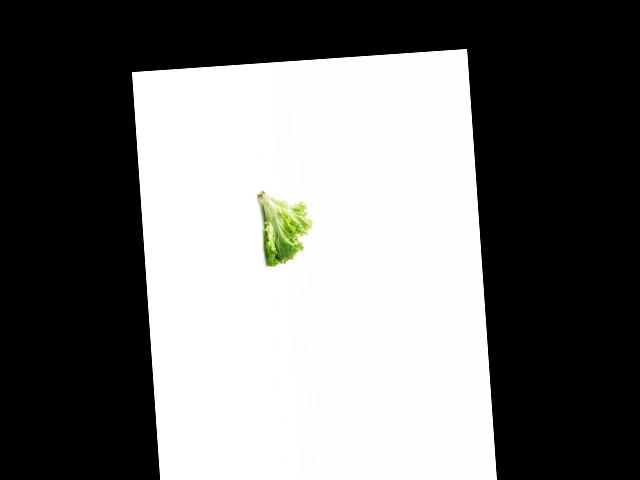lettuce: (255, 185, 315, 267)
